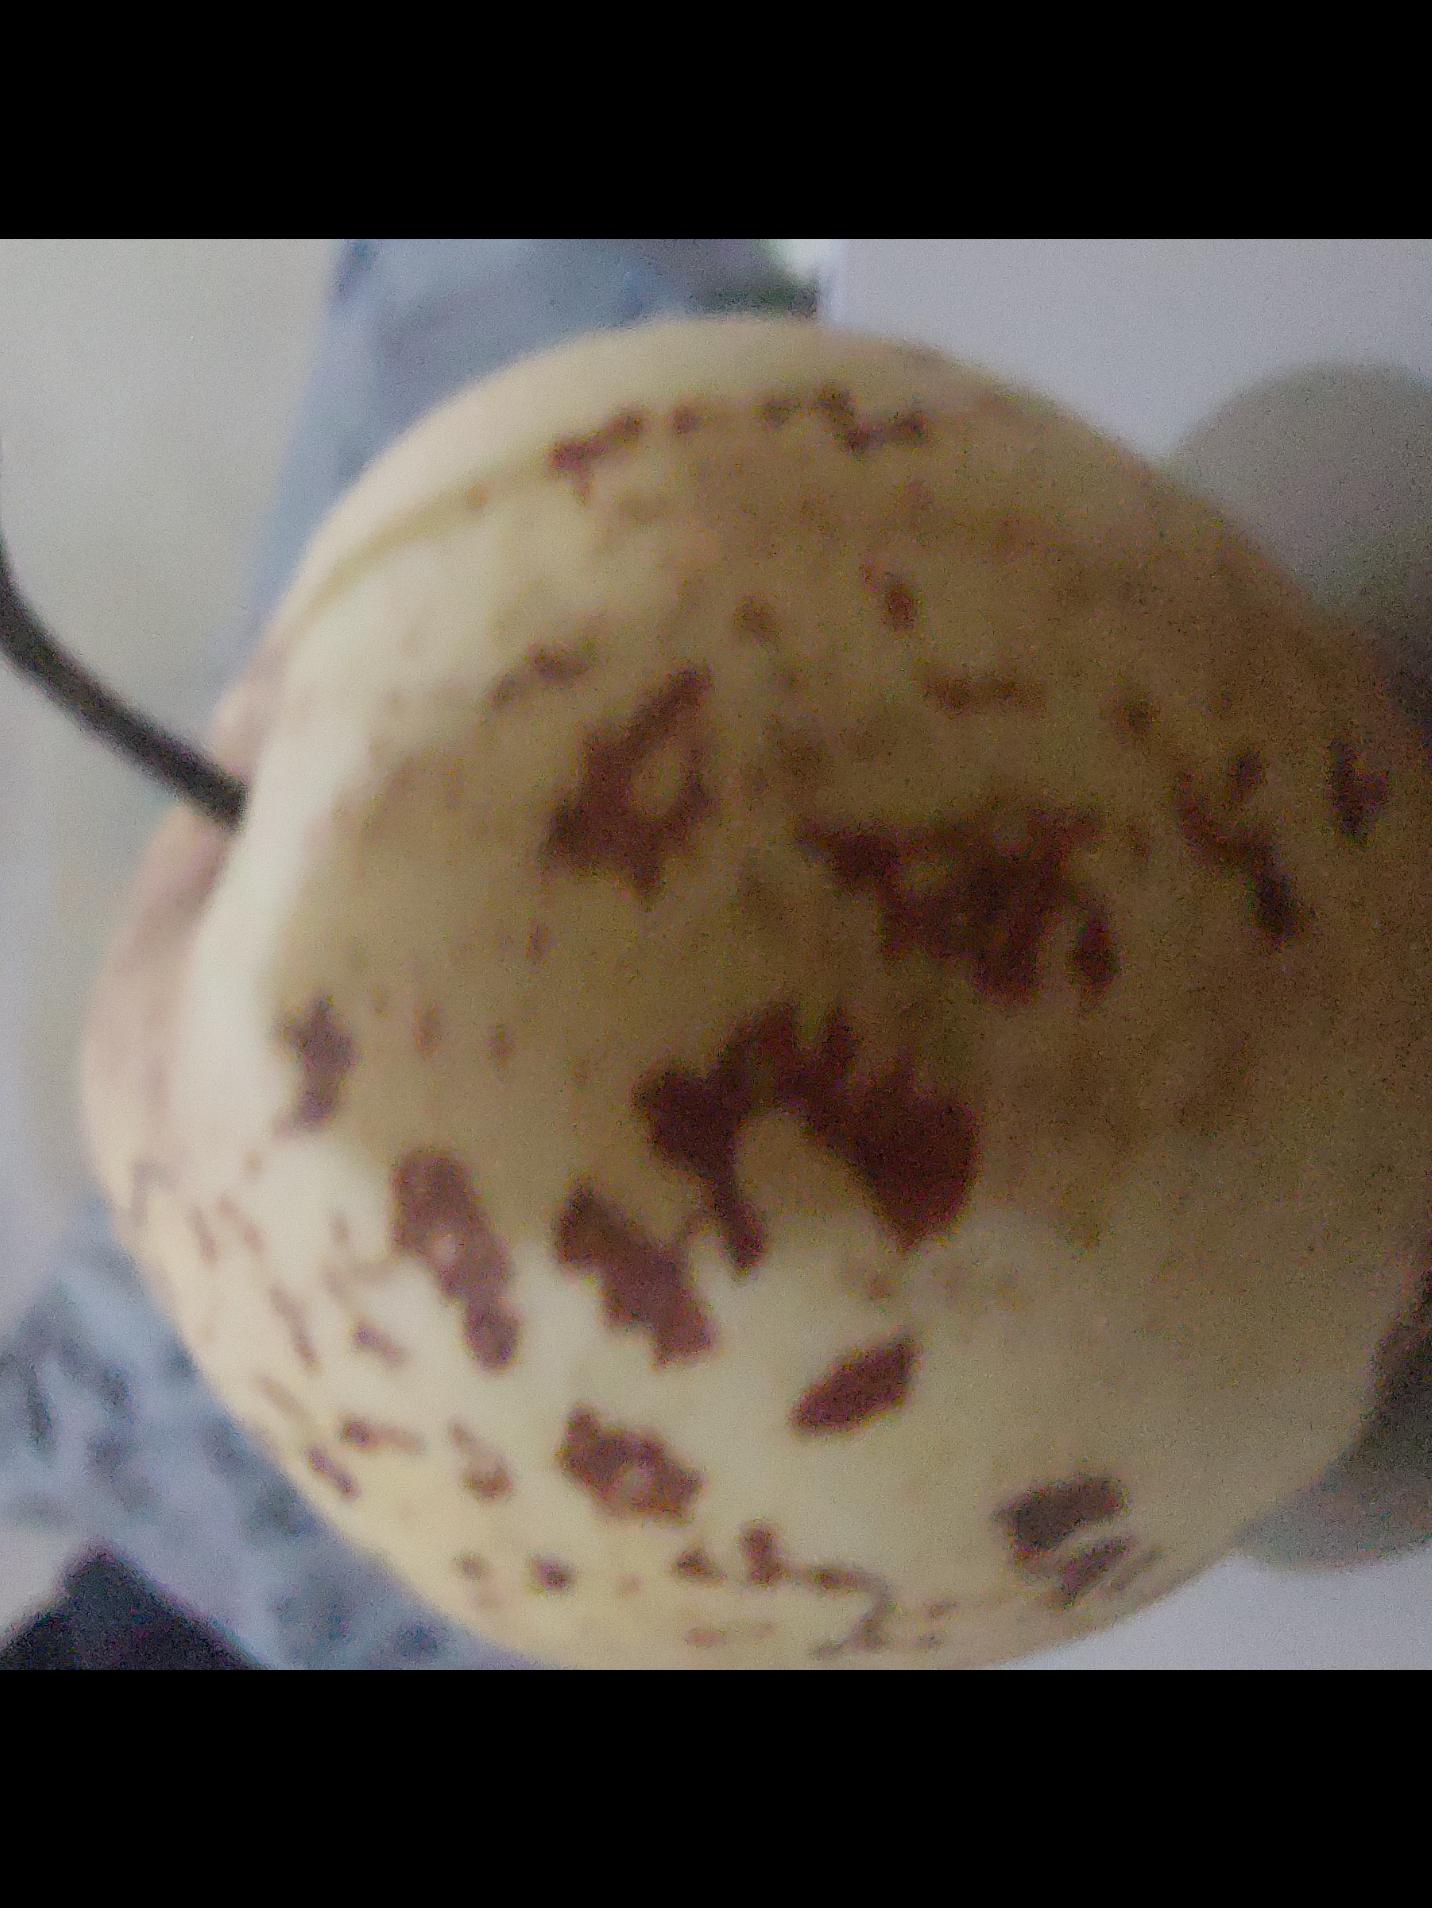Bad Pear: (51, 326, 1432, 1670)
